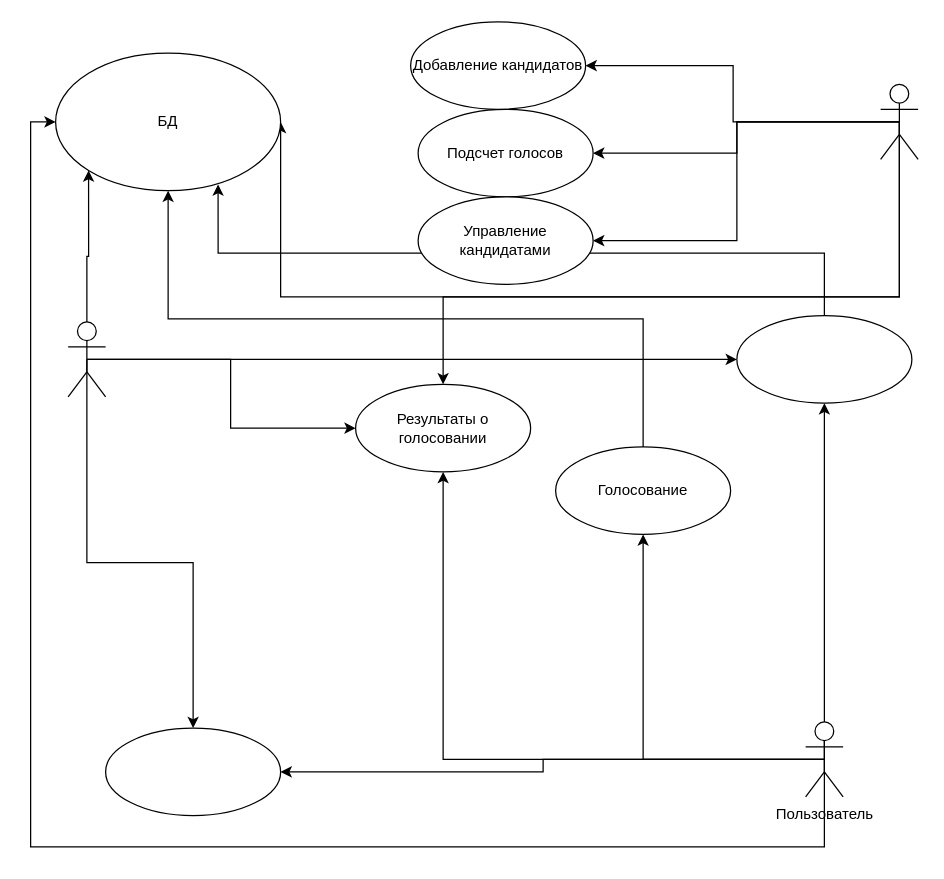
The diagram is 944 pixels wide and 879 high, and some of its shapes have lost their labels. The centre of each missing label's shape, as x and y in pixels:
"Админ" belongs at point 898,121.
"кандидат" belongs at point 86,359.
"Регистрация, вход" belongs at point 824,358.
"Удаление аккаунта" belongs at point 192,771.
